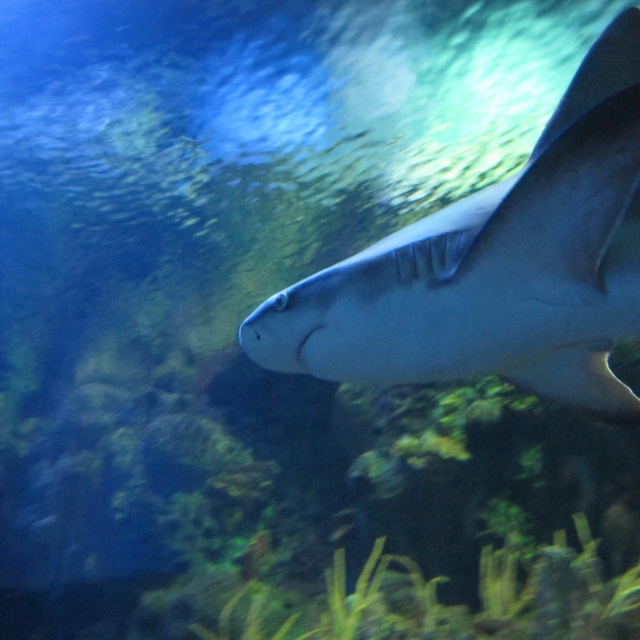Shark: (239, 4, 640, 420)
